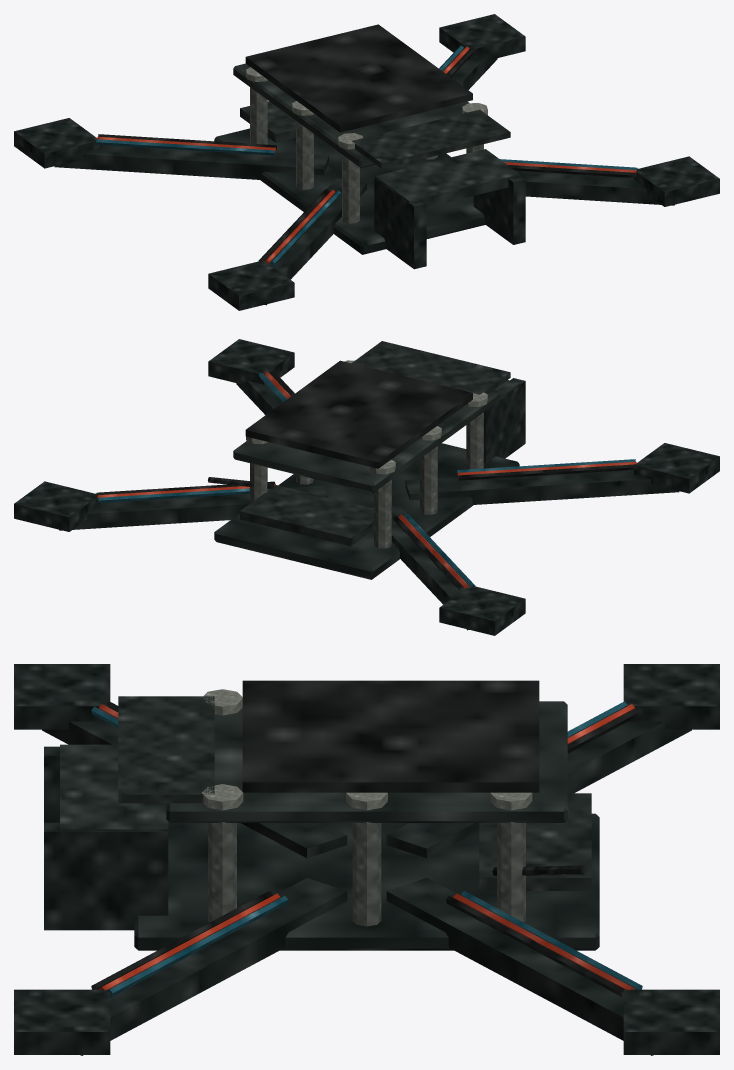
Rendered from DR_ScoutFrame.fbx.
3 renders of one model, top to bottom at view 1: azimuth 30°, elevation 25°; view 2: azimuth 150°, elevation 25°; view 3: azimuth 270°, elevation 25°, orthographic. The views are drawn at different scales.
Parts seen in each view (by area): view 1: BatteryPad, FrameBottomPlate, FrameArm.2, FrameNoseDeck, CameraCage.Crossbar, FrameTopPlate, CameraCage.Left, FrameArm.1, MotorMount.0, MotorMount.1, MotorMount.2, MotorMount.3 (+14 smaller); view 2: BatteryPad, FrameBottomPlate, FrameArm.0, FrameTopPlate, ReceiverVtxShelf, FrameArm.3, FrameNoseDeck, MotorMount.2, MotorMount.3, MotorMount.0, MotorMount.1, CameraCage.Left (+15 smaller); view 3: BatteryPad, FrameBottomPlate, FrameTopPlate, CameraCage.Right, FrameNoseDeck, FrameArm.1, FrameArm.3, CameraCage.Crossbar, MotorMount.1, MotorMount.3, FrameArm.2, ReceiverVtxShelf (+19 smaller).
Boxes of the visible parts, x1,y1,x2,y2 form: BatteryPad: (245, 24, 472, 132); FrameBottomPlate: (214, 128, 485, 254); FrameArm.2: (54, 145, 328, 179); FrameNoseDeck: (352, 109, 510, 168); CameraCage.Crossbar: (375, 149, 520, 206); FrameTopPlate: (233, 63, 469, 167); CameraCage.Left: (374, 177, 426, 269); FrameArm.1: (407, 161, 674, 205); MotorMount.0: (208, 260, 294, 310); MotorMount.1: (634, 156, 719, 206); MotorMount.2: (14, 118, 99, 168); MotorMount.3: (439, 14, 525, 60); BatteryPad: (245, 360, 472, 468); FrameBottomPlate: (214, 443, 519, 579); FrameArm.0: (405, 470, 679, 504); FrameTopPlate: (233, 390, 500, 492); ReceiverVtxShelf: (240, 485, 373, 546); FrameArm.3: (59, 485, 328, 530); FrameNoseDeck: (352, 341, 510, 394); MotorMount.2: (439, 585, 525, 635); MotorMount.3: (14, 481, 99, 531); MotorMount.0: (634, 443, 719, 493); MotorMount.1: (208, 339, 294, 385); CameraCage.Left: (484, 378, 525, 463); BatteryPad: (242, 680, 539, 792); FrameBottomPlate: (134, 813, 599, 950); FrameTopPlate: (166, 701, 567, 822); CameraCage.Right: (44, 822, 168, 930); FrameNoseDeck: (118, 696, 214, 803); FrameArm.1: (80, 878, 347, 1055); FrameArm.3: (386, 878, 653, 1055); CameraCage.Crossbar: (60, 744, 168, 831); MotorMount.1: (14, 989, 110, 1054); MotorMount.3: (623, 989, 719, 1054); FrameArm.2: (386, 721, 691, 858); ReceiverVtxShelf: (479, 793, 591, 890).
Bounding box in the file's own units: 1.08 × 0.2195 × 0.88.
1 material, 1 textured.
